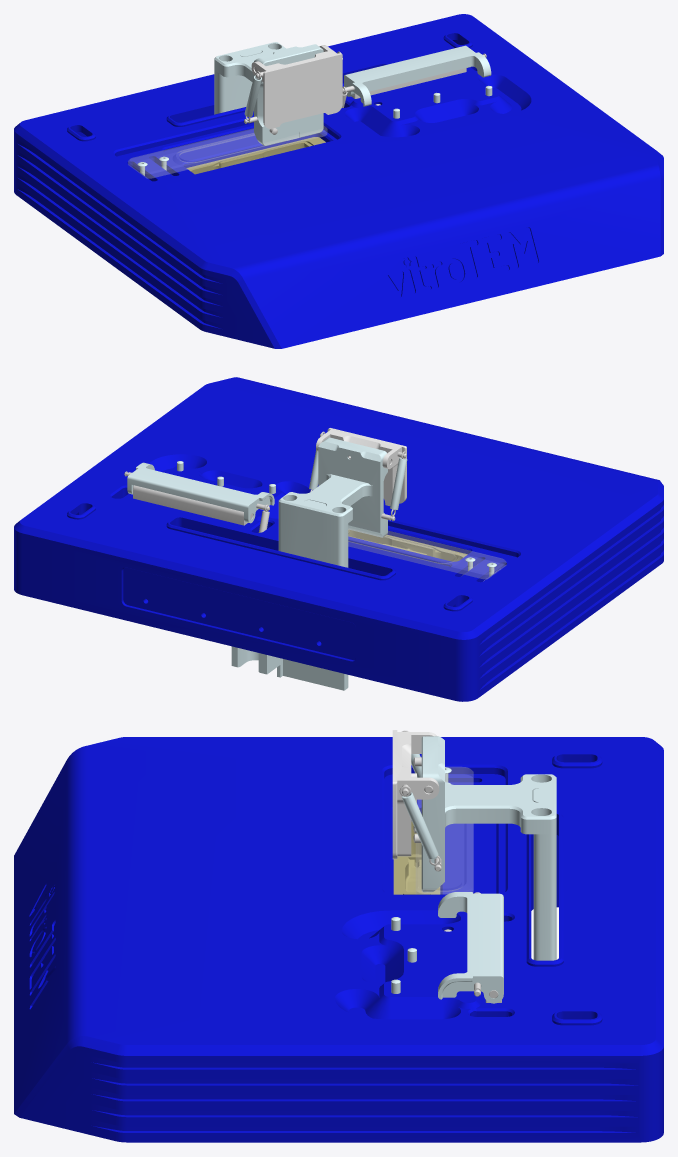
File: TOPSIDE.glb
3 renders of one model, top to bottom at view 1: azimuth 30°, elevation 25°; view 2: azimuth 150°, elevation 25°; view 3: azimuth 270°, elevation 25°, orthographic. The views are drawn at different scales.
Visible parts, largest first — view 1: Topside-main-1, Copy of Looph-clamp-1^Copy of Loop-holdr-assy _1__3066-310-0, Flid-lid-1, Copy of Looph-plate-1^Copy of Loop-holdr-assy _1__3066-310-0, Grid-Clamp-1, Copy of Robot-arm-1^Copy of Robot-z-assy-1 _1__3066-310-0005, Flowcell, Clamp-connector-1; view 2: Topside-main-1, Copy of Looph-plate-1^Copy of Loop-holdr-assy _1__3066-310-0, Copy of Robot-arm-1^Copy of Robot-z-assy-1 _1__3066-310-0005, Flid-lid-1, Grid-Clamp-1, Copy of Looph-clamp-1^Copy of Loop-holdr-assy _1__3066-310-0, Clamp-connector-1, Flowcell; view 3: Topside-main-1, Copy of Looph-plate-1^Copy of Loop-holdr-assy _1__3066-310-0, Grid-Clamp-1, Copy of Robot-arm-1^Copy of Robot-z-assy-1 _1__3066-310-0005, Copy of Looph-clamp-1^Copy of Loop-holdr-assy _1__3066-310-0, Flid-lid-1, Flowcell, Copy of Extnsion-spring-1^Copy of Extnsion-spring-1 (3) _1__.
Boxes of the visible parts, x1,y1,x2,y2 form: Topside-main-1: (14,14,663,348); Copy of Looph-clamp-1^Copy of Loop-holdr-assy _1__3066-310-0: (251,45,342,128); Flid-lid-1: (128,126,327,178); Copy of Looph-plate-1^Copy of Loop-holdr-assy _1__3066-310-0: (214,42,323,145); Grid-Clamp-1: (344,45,491,106); Copy of Robot-arm-1^Copy of Robot-z-assy-1 _1__3066-310-0005: (214,46,261,114); Flowcell: (171,137,325,175); Clamp-connector-1: (351,68,466,98); Topside-main-1: (14,377,663,701); Copy of Looph-plate-1^Copy of Loop-holdr-assy _1__3066-310-0: (278,437,387,537); Copy of Robot-arm-1^Copy of Robot-z-assy-1 _1__3066-310-0005: (231,500,348,690); Flid-lid-1: (348,528,506,578); Grid-Clamp-1: (127,462,274,523); Copy of Looph-clamp-1^Copy of Loop-holdr-assy _1__3066-310-0: (316,428,406,505); Clamp-connector-1: (133,485,247,525); Flowcell: (348,530,467,575); Topside-main-1: (14,737,663,1142); Copy of Looph-plate-1^Copy of Loop-holdr-assy _1__3066-310-0: (421,736,556,892); Grid-Clamp-1: (438,892,503,1003); Copy of Robot-arm-1^Copy of Robot-z-assy-1 _1__3066-310-0005: (533,788,556,960); Copy of Looph-clamp-1^Copy of Loop-holdr-assy _1__3066-310-0: (392,730,439,859); Flid-lid-1: (416,767,473,894); Flowcell: (393,821,440,894); Copy of Extnsion-spring-1^Copy of Extnsion-spring-1 (3) _1__: (402,792,438,859).
Bounding box in the file's own units: 0.32 × 0.136 × 0.2789.
